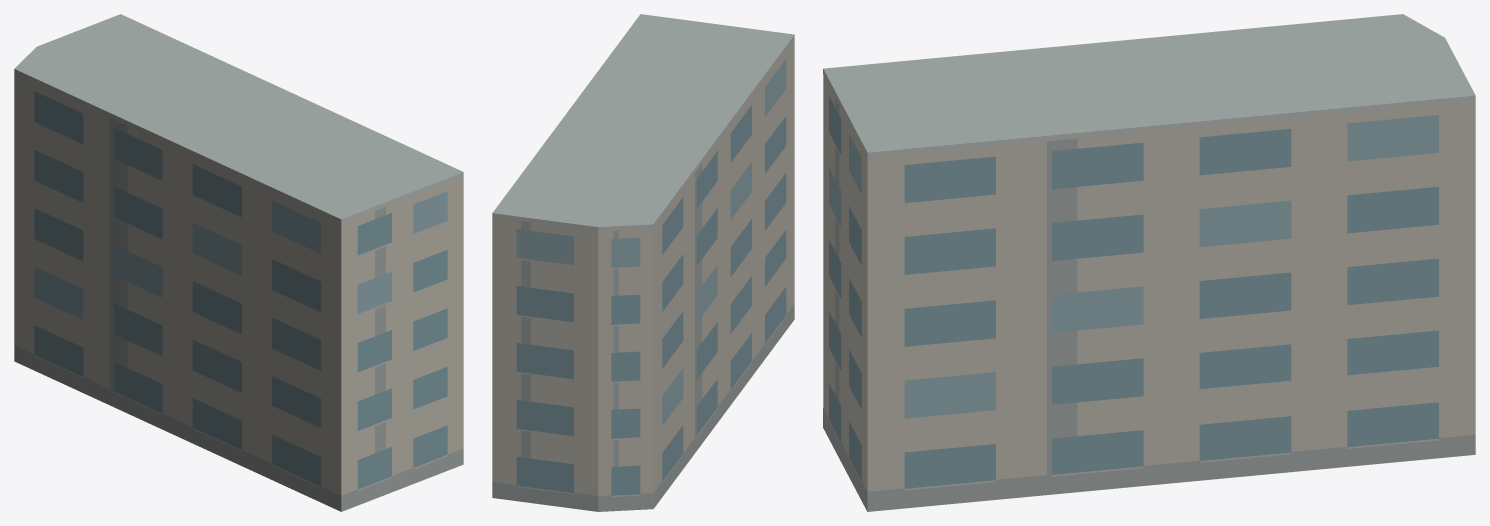
The model's file is residential-0f83e721-94db-4fd9-8d98-8aac574f3931.glb.
The picture shows the model from 3 angles, left to right: view 1: azimuth 30°, elevation 25°; view 2: azimuth 150°, elevation 25°; view 3: azimuth 270°, elevation 25°; orthographic projection. The views are drawn at different scales.
Parts seen in each view (by area): view 1: residential-0f83e721-94db-4fd9-8d98-8aac574f3931.tmp; view 2: residential-0f83e721-94db-4fd9-8d98-8aac574f3931.tmp; view 3: residential-0f83e721-94db-4fd9-8d98-8aac574f3931.tmp.
Boxes of the visible parts, x1,y1,x2,y2 form: residential-0f83e721-94db-4fd9-8d98-8aac574f3931.tmp: [14, 14, 463, 511]; residential-0f83e721-94db-4fd9-8d98-8aac574f3931.tmp: [492, 14, 794, 511]; residential-0f83e721-94db-4fd9-8d98-8aac574f3931.tmp: [823, 14, 1475, 511].
Bounding box in the file's own units: 12.63 × 15.25 × 25.11.
